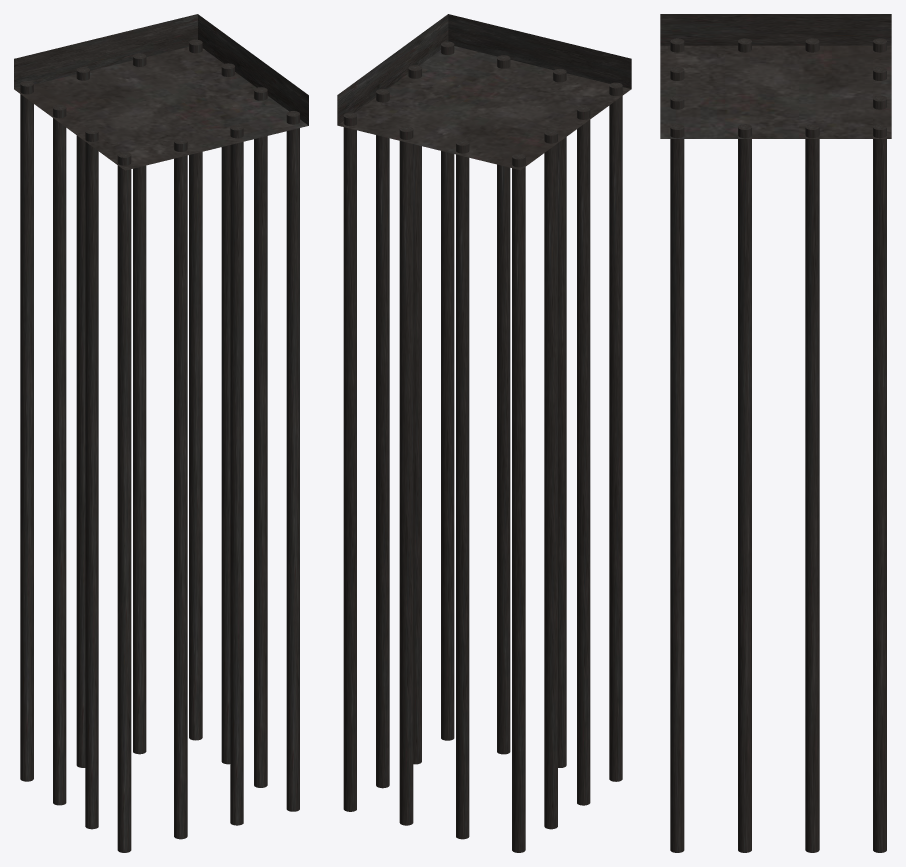
Rendered from bars.glb.
3 views of the same model, side by side, from view 1: azimuth 30°, elevation 25°; view 2: azimuth 150°, elevation 25°; view 3: azimuth 270°, elevation 25° (orthographic). The views are drawn at different scales.
Visible parts, largest first — view 1: Cylinder.001; view 2: Cylinder.001; view 3: Cylinder.001.
Boxes of the visible parts, bbox=[...] form: Cylinder.001: bbox=[14, 14, 308, 852]; Cylinder.001: bbox=[337, 14, 631, 852]; Cylinder.001: bbox=[660, 14, 891, 852].
Size of the model in its own units: 6.53 by 24.39 by 6.84.
Materials: 1 (1 with a texture image).
